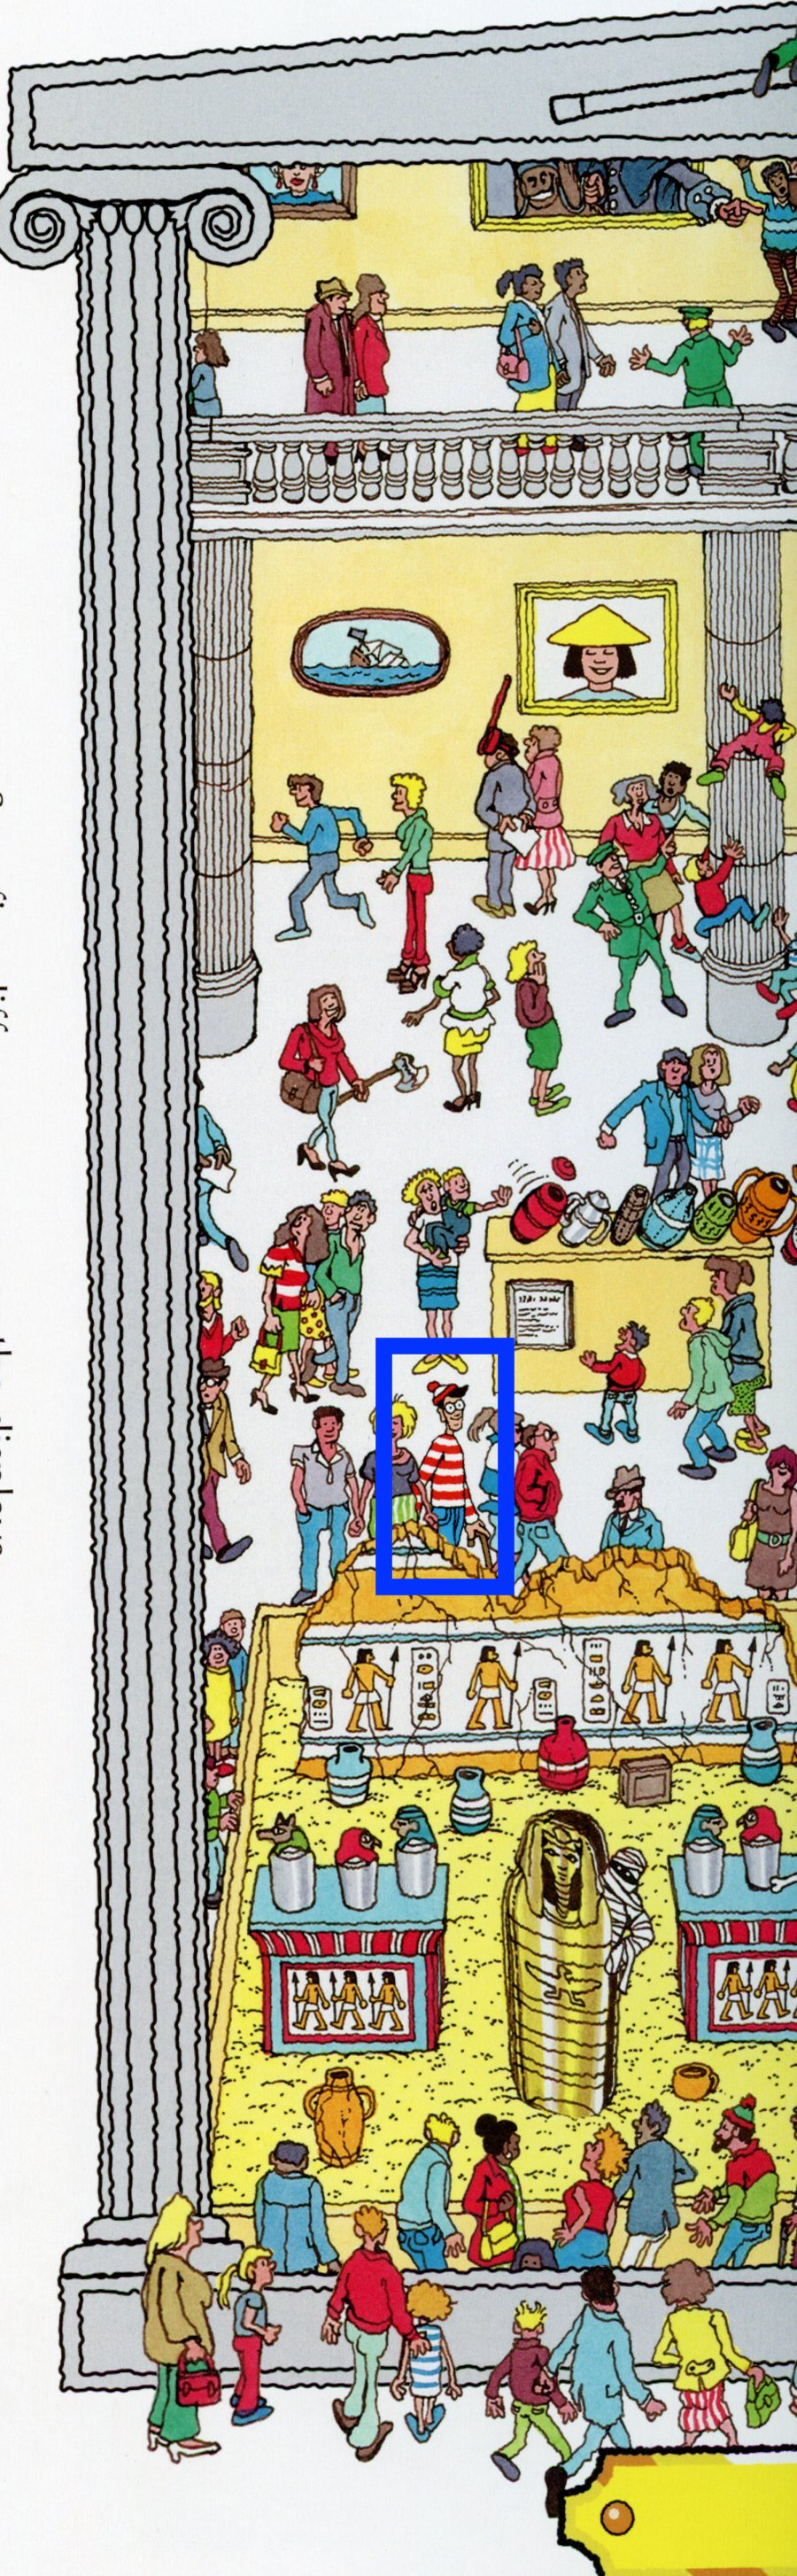waldo: (375, 1341, 539, 1630)
